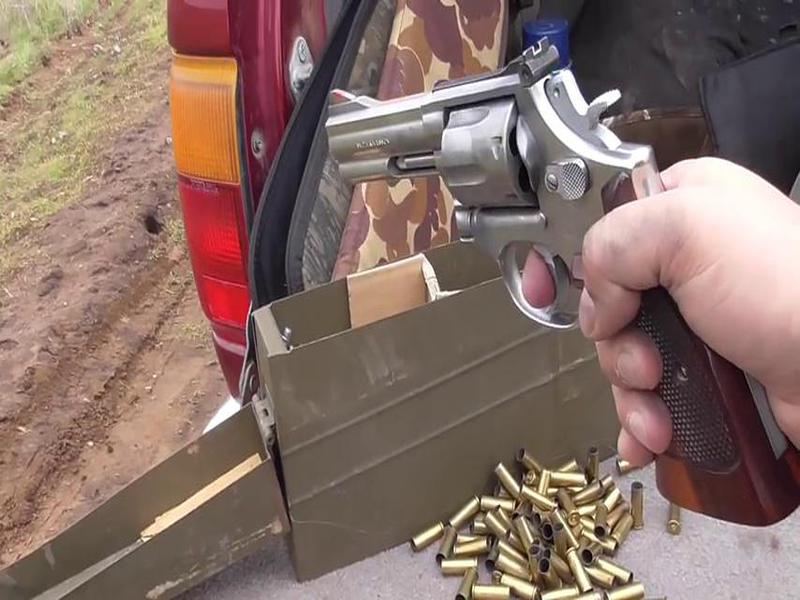Revolver: (296, 33, 797, 452)
